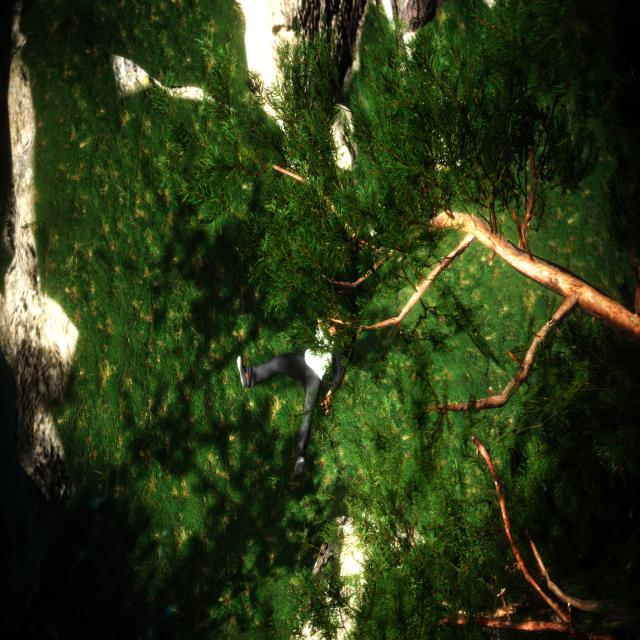Human: (233, 298, 354, 488)
